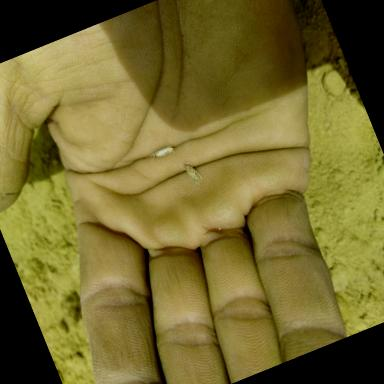pbw: (181, 158, 204, 189), (148, 144, 176, 164)
